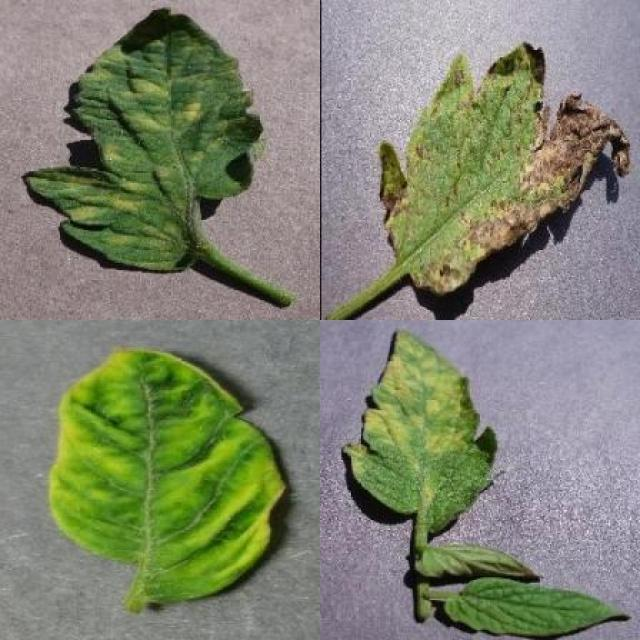Healthy: (446, 578, 633, 640)
Leaf Mold: (25, 7, 265, 274), (342, 325, 509, 535)
Septoria: (378, 42, 632, 295)
Yellow Leaf Curl Virus: (47, 346, 286, 606)
